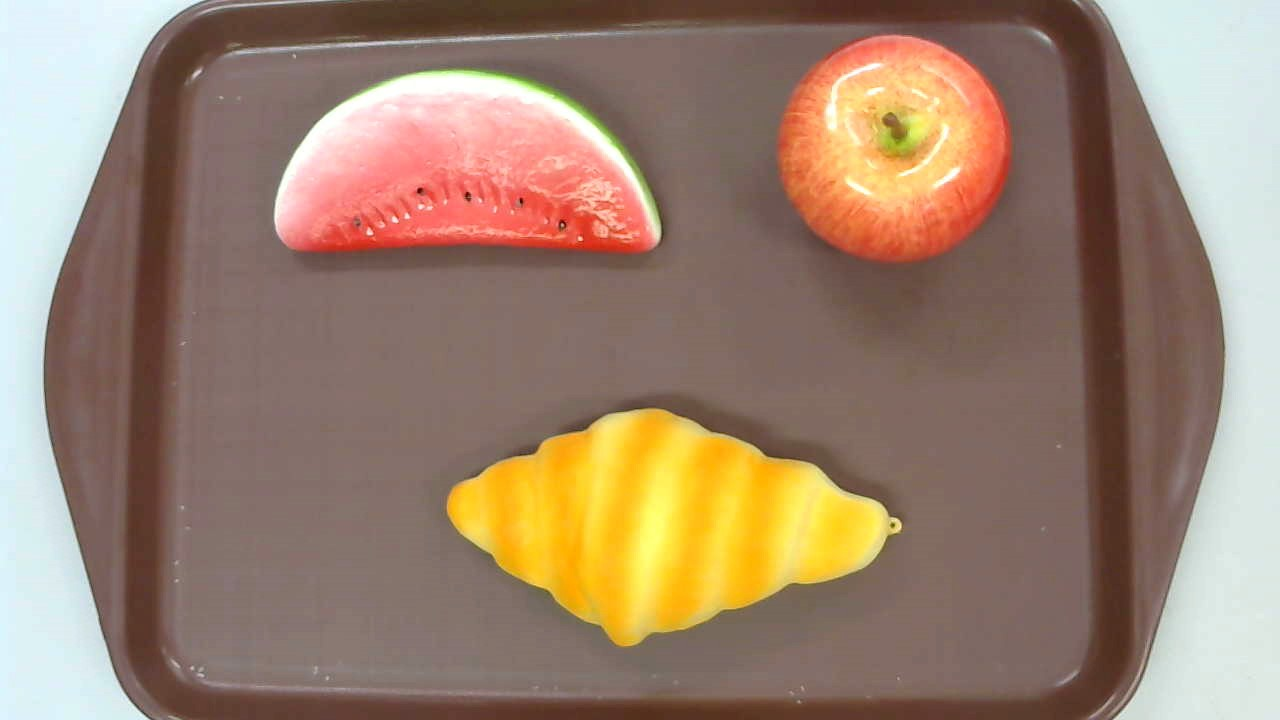croissant: (447, 408, 902, 651)
red apple: (776, 34, 1014, 263)
water melon: (272, 68, 663, 258)
